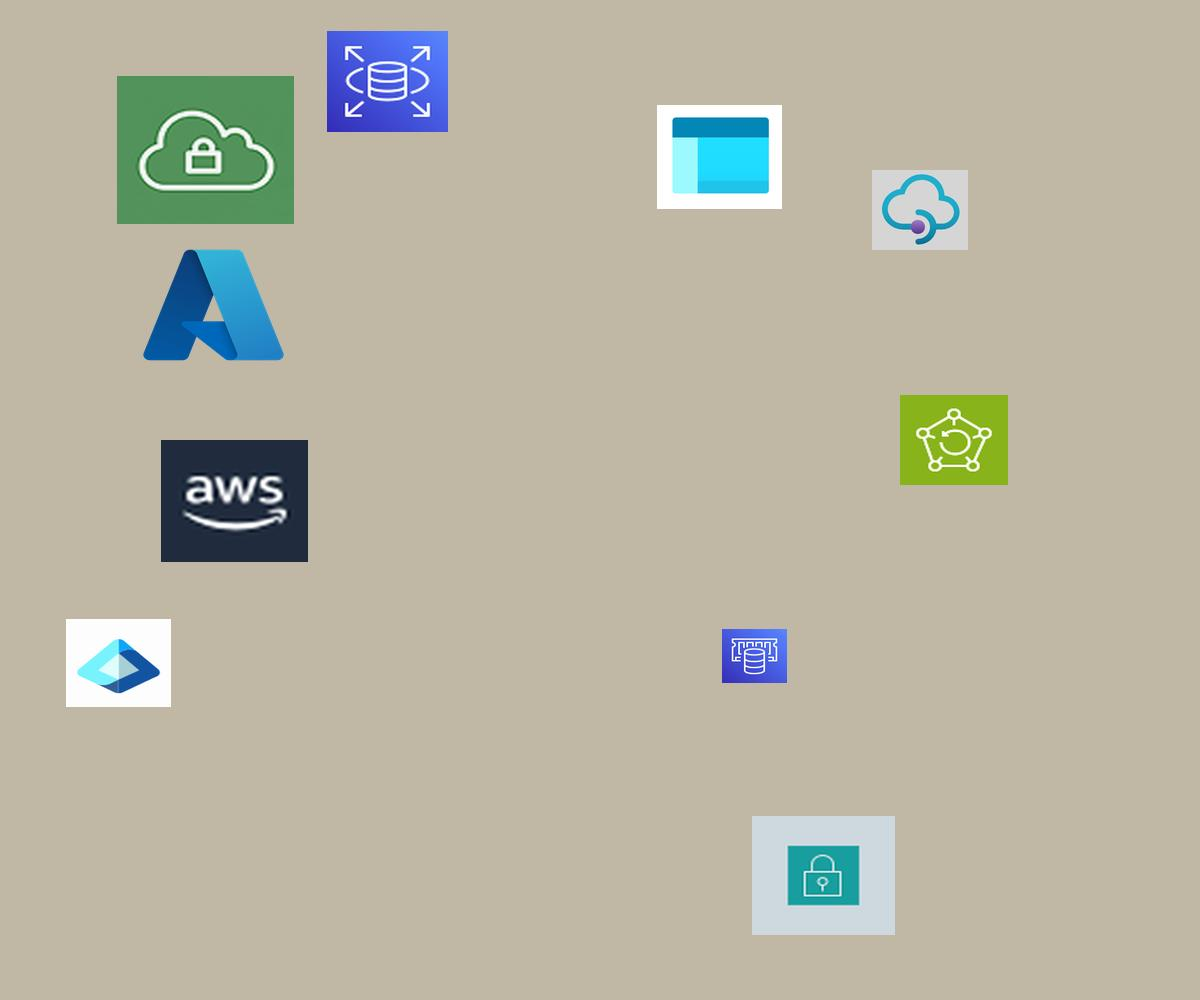AWS-Backup: (900, 395, 1008, 485)
AWS-Cloud-logo: (161, 440, 308, 562)
AWS-ElastiCache: (722, 629, 787, 683)
AWS-Private-subnet: (752, 816, 895, 935)
AWS-Private_vpc: (117, 76, 294, 224)
AWS-RDS: (327, 31, 448, 132)
Azure_api_gateway: (872, 170, 968, 250)
Azure_management-portal: (657, 105, 782, 209)
Azure_microsoft_entra: (66, 619, 171, 707)
Azure_services: (137, 241, 290, 369)
